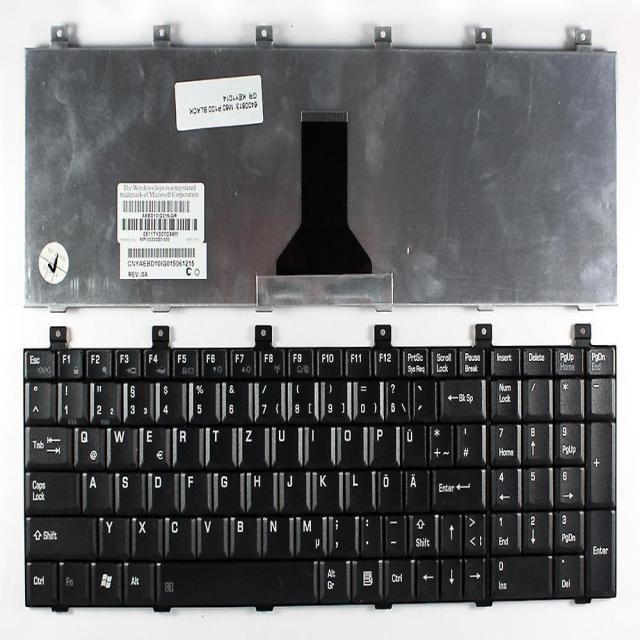0: (352, 374, 380, 420)
1: (56, 377, 83, 419)
2: (88, 377, 117, 421)
3: (122, 377, 150, 421)
4: (154, 377, 181, 420)
5: (187, 376, 215, 420)
6: (220, 377, 248, 421)
7: (252, 376, 282, 420)
8: (286, 377, 315, 422)
9: (320, 376, 348, 421)
a: (81, 468, 109, 510)
accent: (411, 376, 434, 419)
ae: (403, 466, 427, 509)
alt-left: (122, 557, 150, 602)
altgr-right: (317, 555, 346, 600)
b: (227, 512, 257, 555)
c: (162, 512, 191, 556)
caret: (24, 377, 50, 419)
comma: (328, 511, 355, 554)
d: (146, 468, 174, 510)
del: (438, 374, 481, 417)
e: (138, 423, 166, 466)
enter: (430, 463, 482, 506)
f: (180, 468, 207, 510)
g: (212, 468, 238, 509)
h: (245, 468, 273, 509)
hash: (455, 420, 483, 463)
i: (302, 423, 330, 464)
j: (278, 467, 305, 509)
k: (312, 467, 339, 509)
keyboard: (13, 336, 619, 614)
l: (344, 467, 371, 508)
less: (462, 510, 485, 553)
m: (294, 511, 324, 554)
minus: (383, 511, 404, 554)
n: (261, 512, 289, 555)
o: (334, 422, 363, 464)
oe: (376, 467, 400, 509)
p: (367, 421, 395, 464)
plus: (426, 420, 451, 463)
point: (359, 511, 380, 554)
q: (71, 423, 101, 466)
r: (170, 423, 199, 466)
s: (114, 468, 142, 511)
shift-left: (23, 511, 92, 556)
shift-lock: (22, 467, 75, 511)
shift-right: (411, 513, 438, 556)
space: (156, 557, 314, 604)
ss: (383, 375, 407, 419)
strg-left: (23, 558, 53, 603)
strg-right: (383, 556, 411, 598)
t: (204, 423, 232, 464)
tab: (23, 420, 67, 465)
u: (270, 422, 298, 465)
ue: (399, 420, 424, 464)
v: (196, 512, 224, 555)
w: (105, 422, 134, 465)
x: (131, 513, 158, 556)
y: (98, 514, 126, 556)
z: (238, 423, 264, 464)
